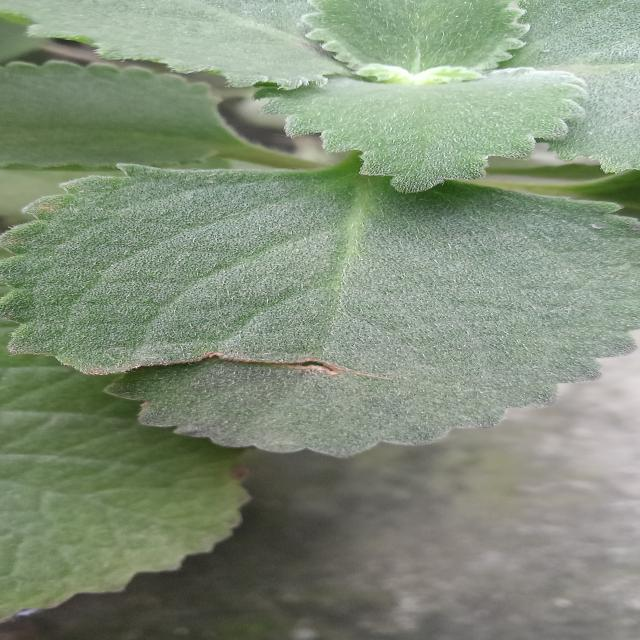Oregano: (8, 55, 640, 500)
